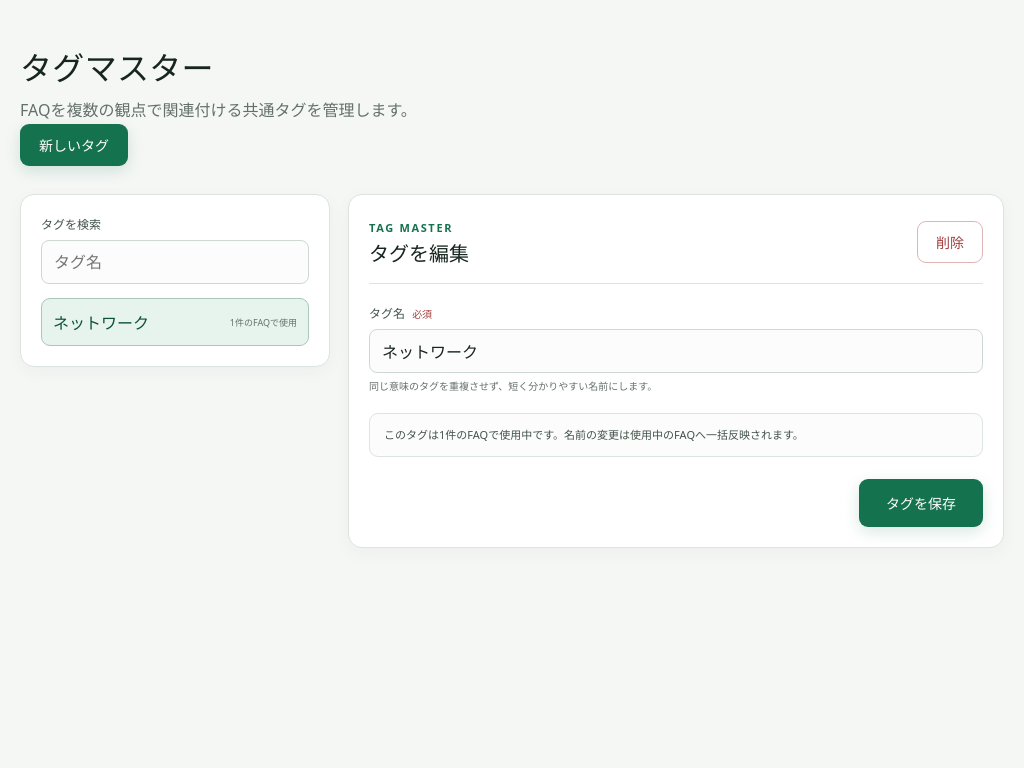
Scenario: TagsPage › shows the reason when a tag in use cannot be deleted
Click the button "削除" at (950, 242), box [917,221,983,263]
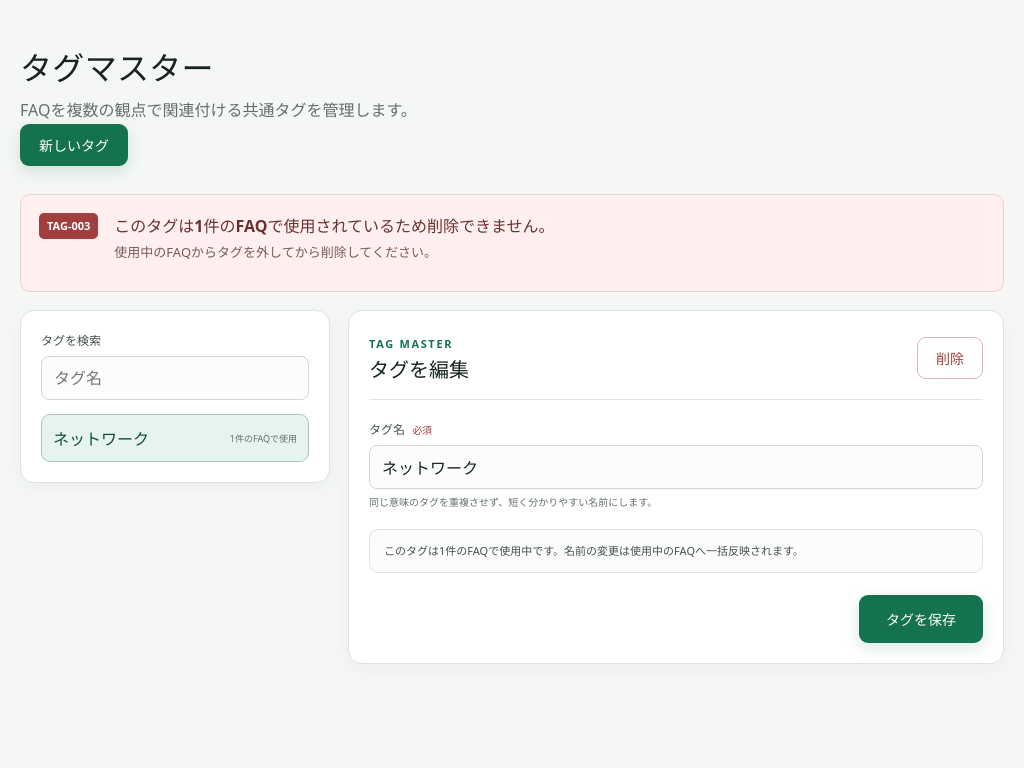
Now the text "このタグは1件のFAQで使用されているため削除できません。" is shown, box [114,215,554,237]
